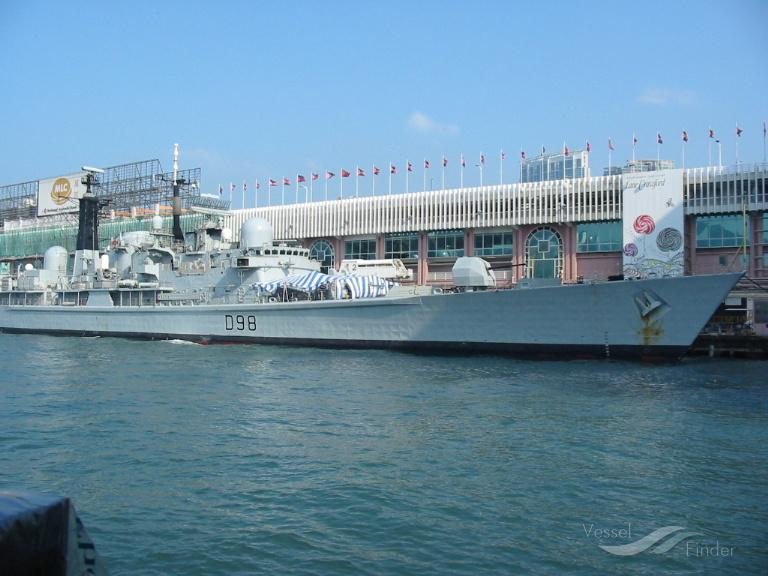OCR: (221, 309, 264, 334)
